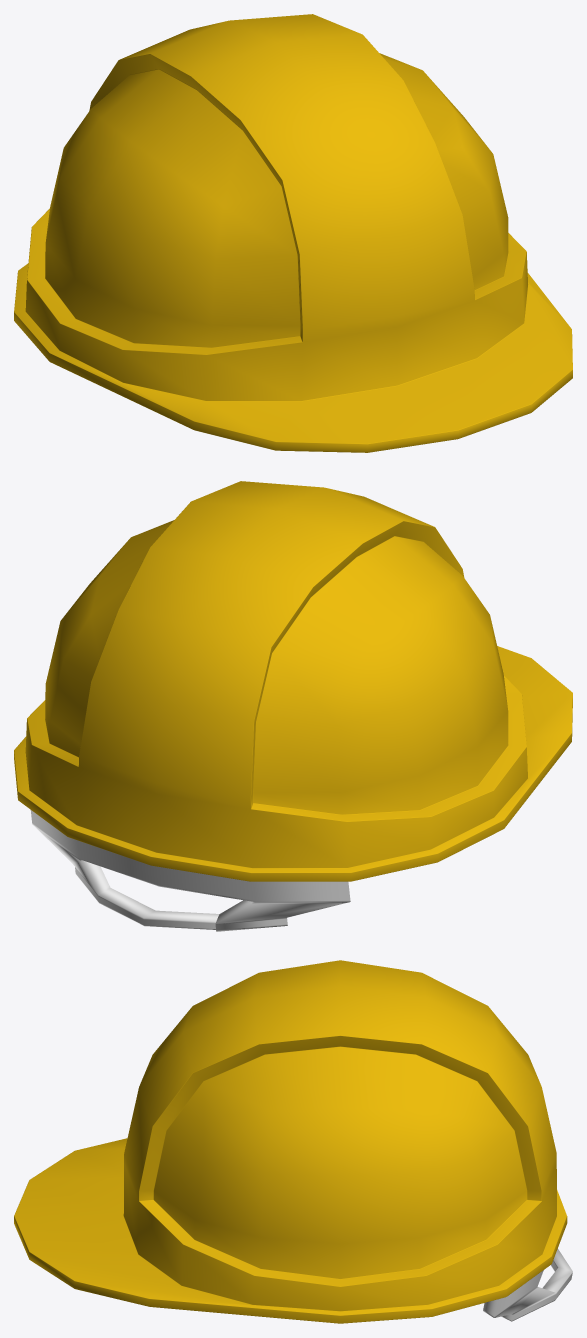
The model's file is Cap.fbx.
3 renders of one model, top to bottom at view 1: azimuth 30°, elevation 25°; view 2: azimuth 150°, elevation 25°; view 3: azimuth 270°, elevation 25°, orthographic. The views are drawn at different scales.
Parts seen in each view (by area): view 1: Cap; view 2: Cap; view 3: Cap.
Part boxes in pixels (bbox=[...]): Cap: bbox=[14, 14, 572, 452]; Cap: bbox=[14, 481, 572, 931]; Cap: bbox=[14, 960, 572, 1323].
Bounding box in the file's own units: 107 × 72.55 × 126.
